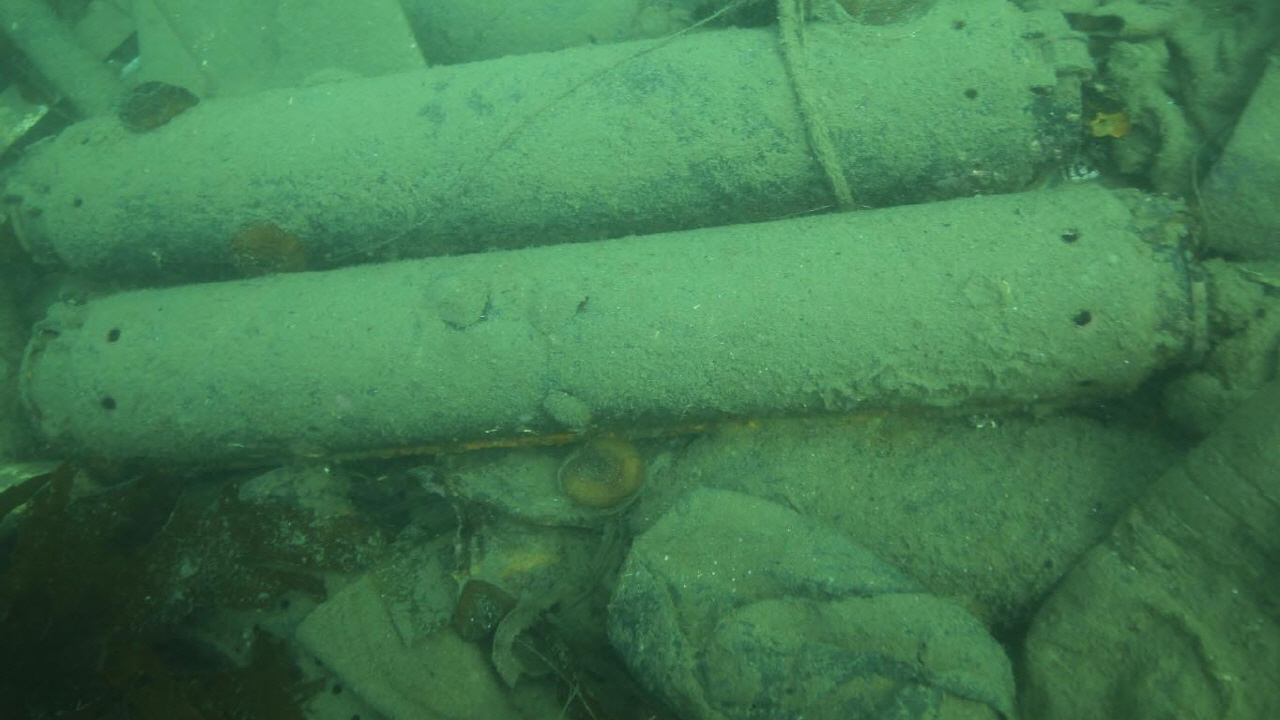eel fish trap: (13, 181, 1213, 462), (9, 0, 1094, 272)
rope: (765, 0, 871, 215)
